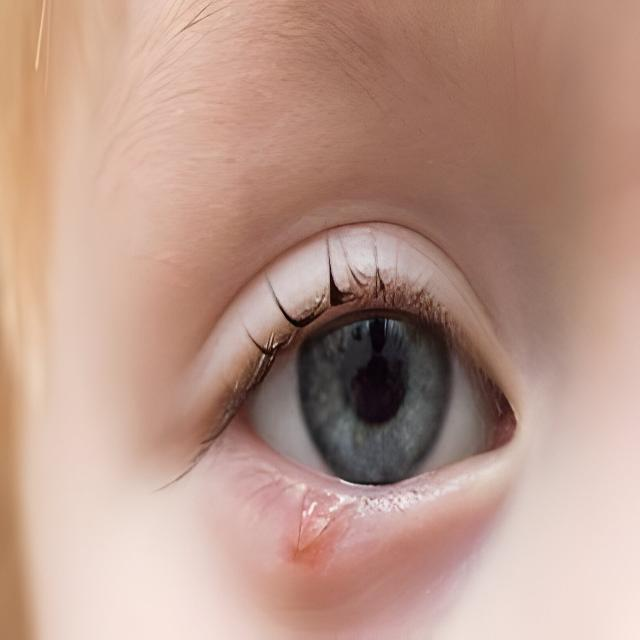Stye: (244, 467, 386, 580)
